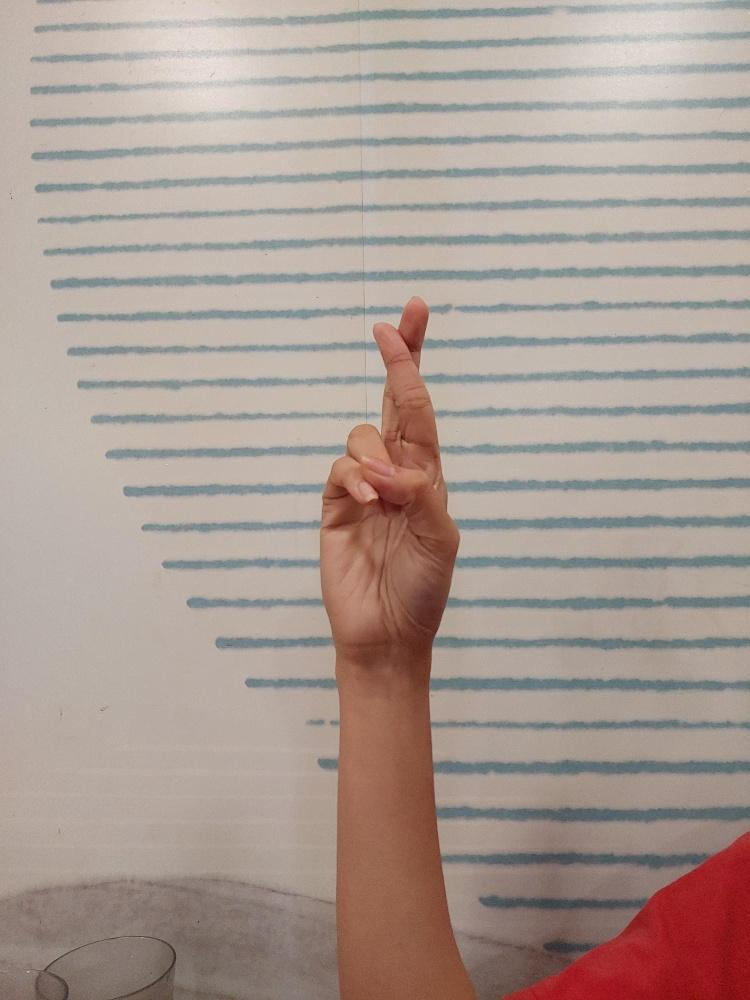r: (317, 291, 462, 656)
